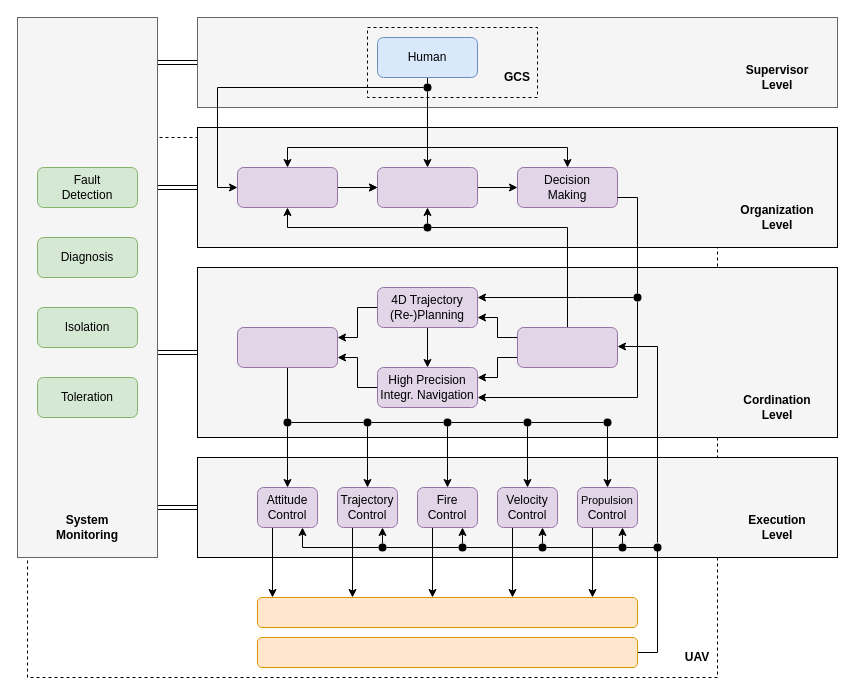
Some shapes in this 855 by 695 pixel diagram are drawn without their labels. The shapes that lost their labels are listed below. From the top down, each one's centre as x and y in pixels, then its label:
point 287,187: Situation Assessment
point 427,187: Mission Management
point 287,347: Coordination
point 567,347: Multi-Sensor Data Fusion/Processing
point 447,612: Actuators
point 447,652: Sensors
